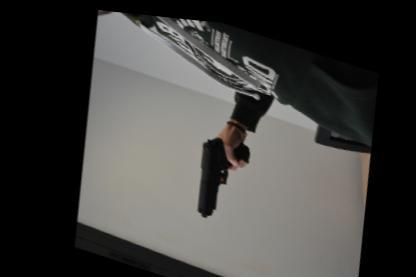pistol: (179, 123, 256, 226)
